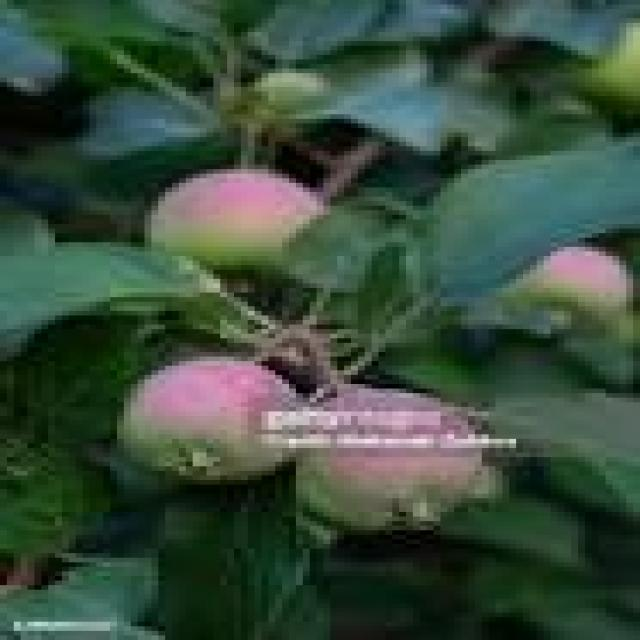apple: (289, 384, 482, 526), (117, 357, 289, 480), (145, 169, 323, 265), (509, 242, 626, 315)
